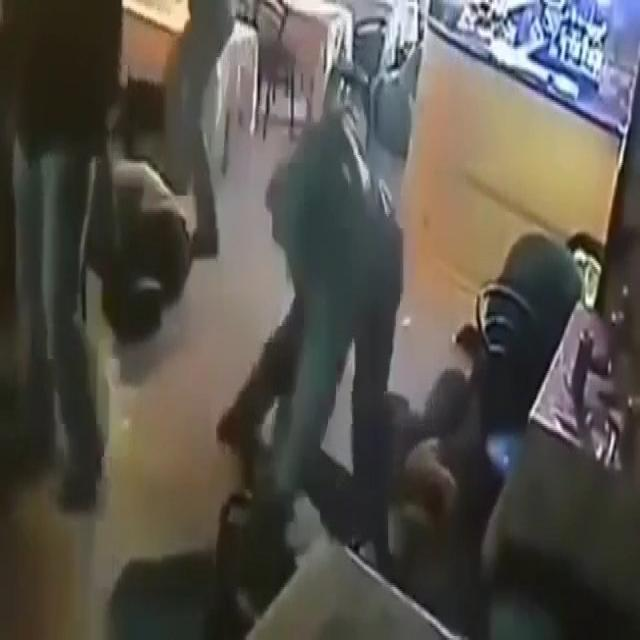fight: (215, 98, 411, 569)
